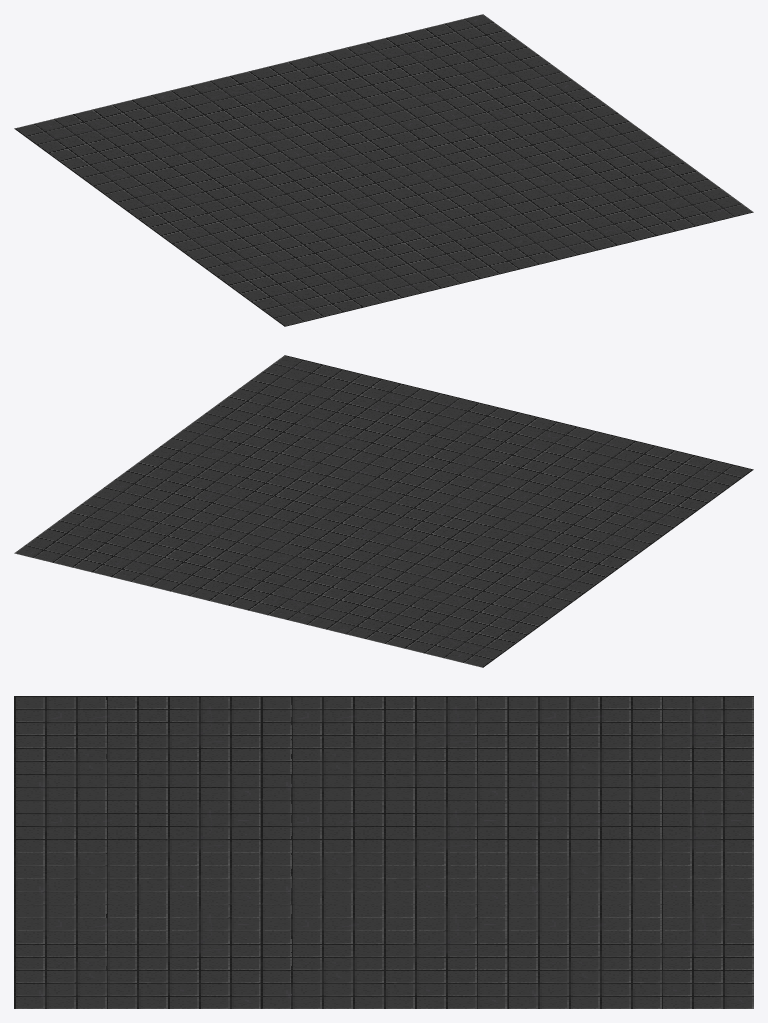
Rendered from playtest_map.gltf.
3 renders of one model, top to bottom at view 1: azimuth 30°, elevation 25°; view 2: azimuth 150°, elevation 25°; view 3: azimuth 270°, elevation 25°, orthographic. The views are drawn at different scales.
Parts seen in each view (by area): view 1: plane (×9); view 2: plane (×9); view 3: plane (×9).
Part boxes in pixels (x1,y1,x2,y2): plane (×9): (14,14,753,326); plane (×9): (14,355,753,667); plane (×9): (14,696,753,1008).
Size of the model in its own units: 48 by 0 by 48.
Materials: 1 (1 with a texture image).
